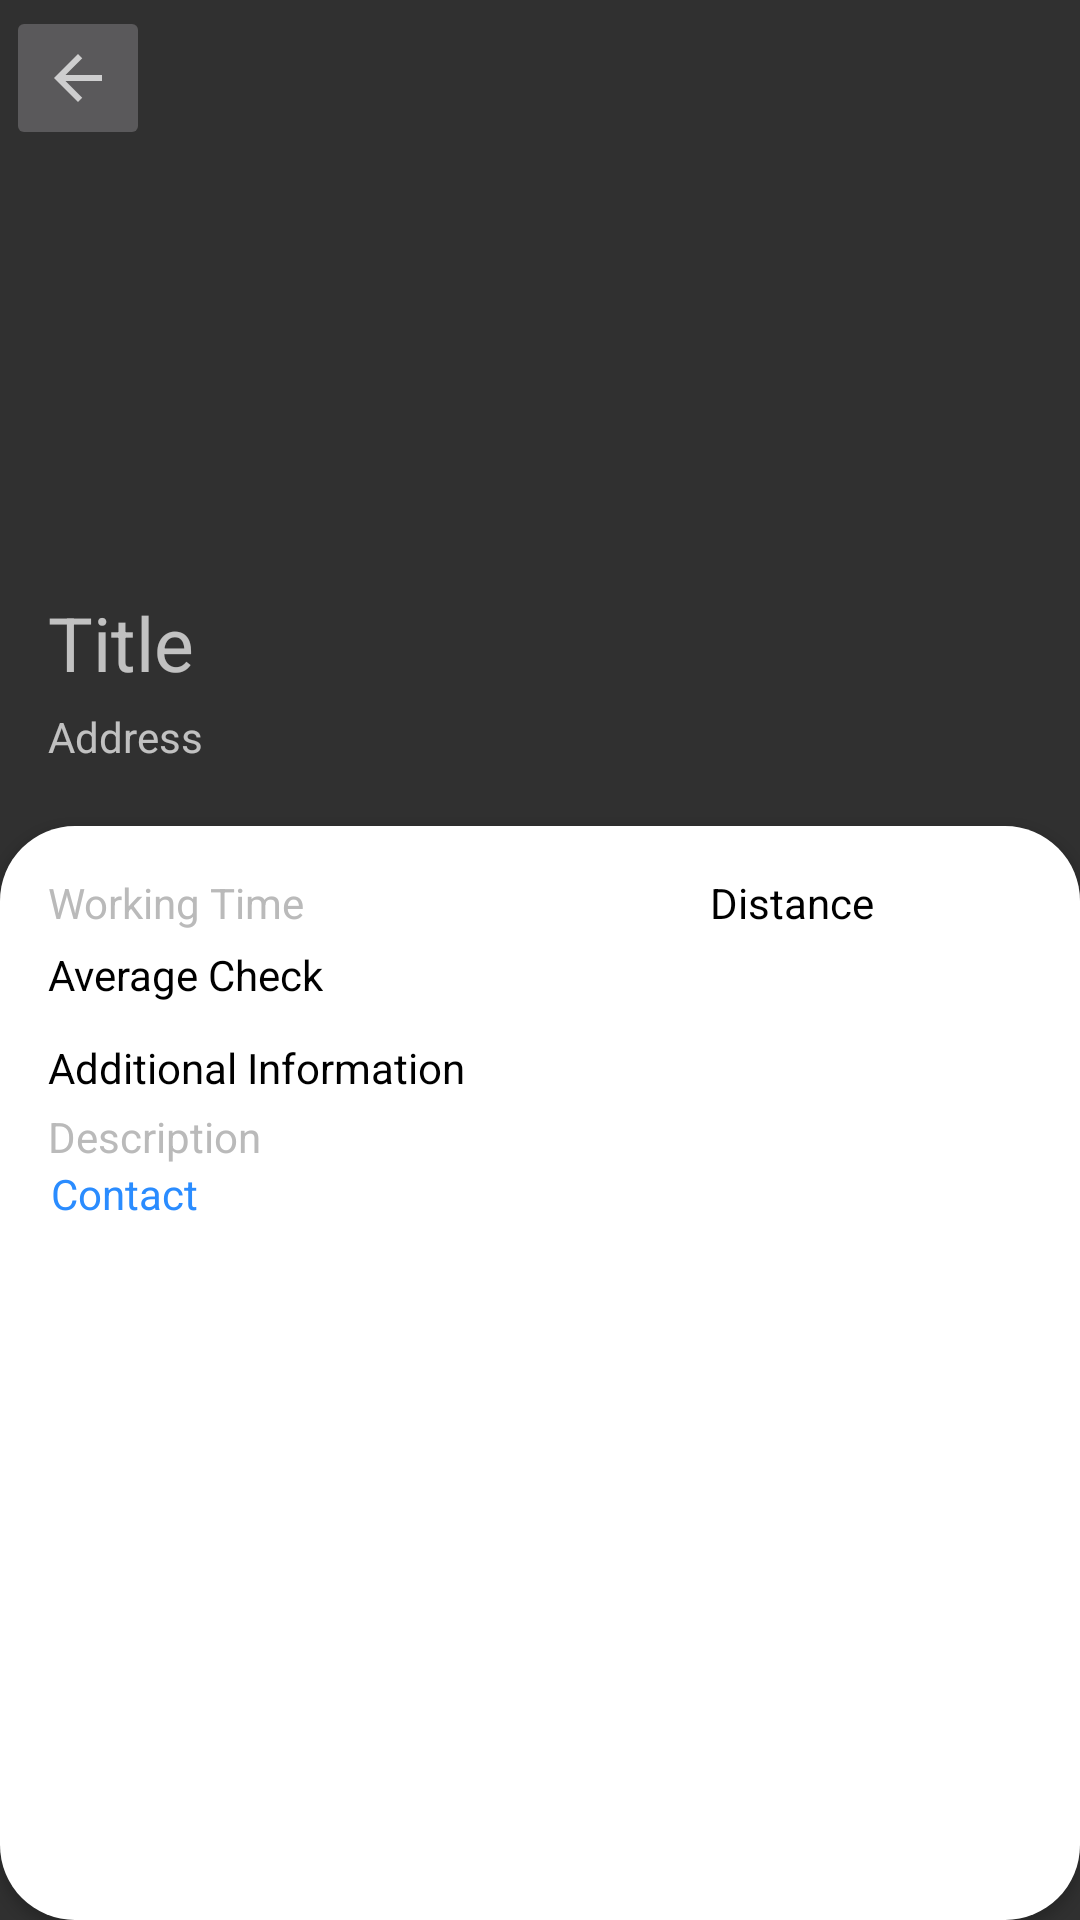

Screen size 1080px x 1920px. Icon name, then its center in pixels as [x,y]:
back: [78,78]
